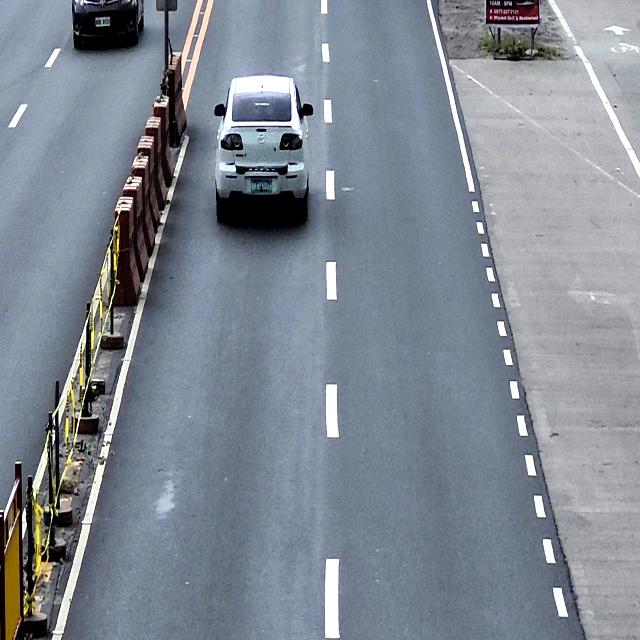Car: (214, 74, 313, 222), (72, 0, 144, 49)
License-Plate: (250, 176, 273, 194), (95, 16, 112, 28)
